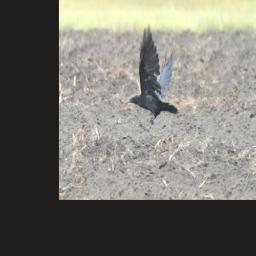Crow: (126, 22, 179, 127)
